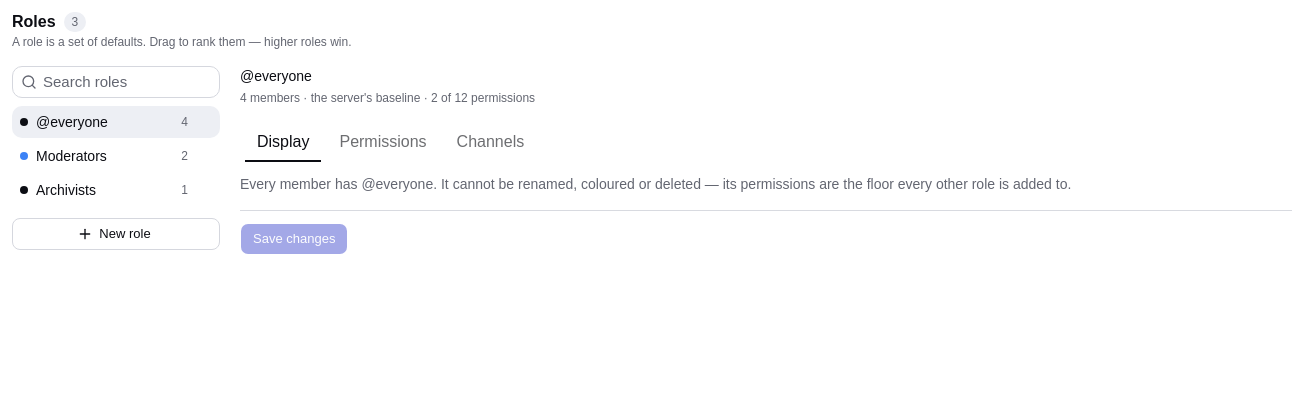
Test case: RolesPage › withdraws the drag handles while the list is filtered
Expected: the list named "Roles" is shown, x1=12 y1=106 x2=220 y2=206
Type "mod" into the search field named "Search roles by name" at coordinates (128, 82), box x1=41 y1=67 x2=215 y2=97
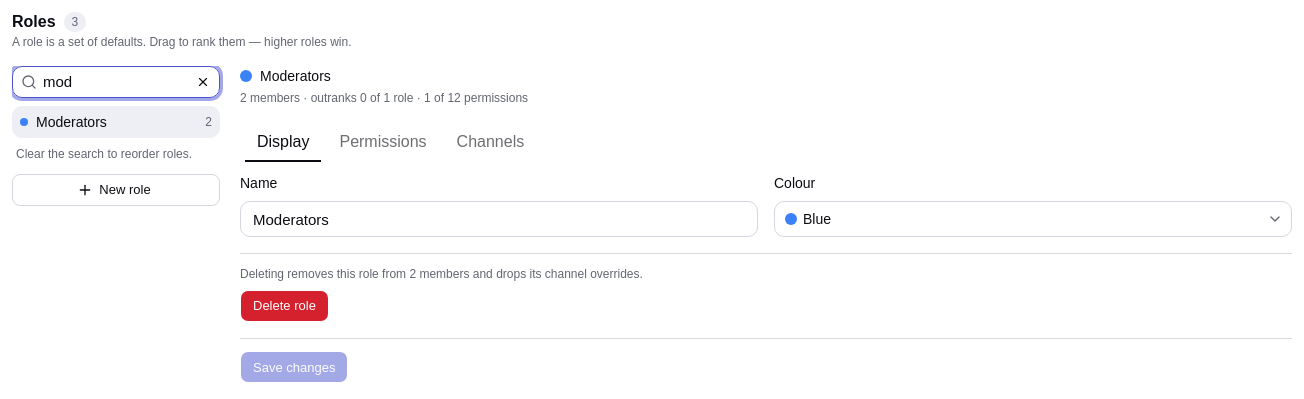
Now the text "Clear the search to reorder roles." is shown, box x1=16 y1=147 x2=192 y2=161
